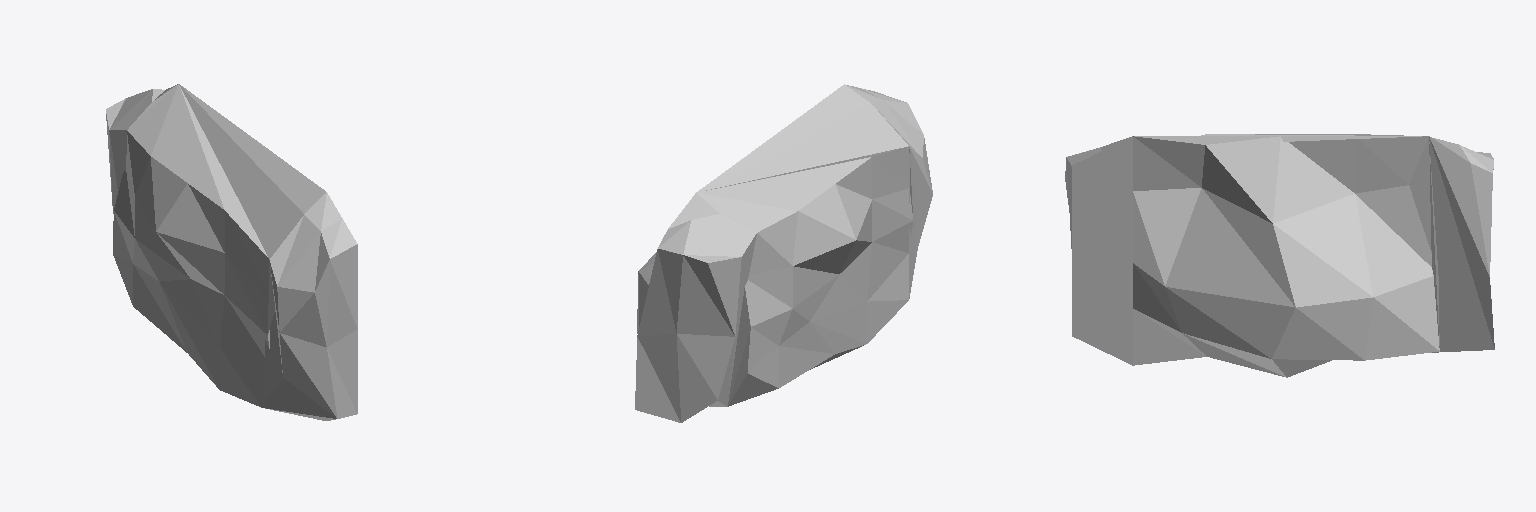
Rendered from RightWing.obj.
The picture shows the model from 3 angles: view 1: azimuth 30°, elevation 25°; view 2: azimuth 150°, elevation 25°; view 3: azimuth 270°, elevation 25°; orthographic projection.
Visible parts, largest first — view 1: Cube; view 2: Cube; view 3: Cube.
Part boxes in pixels (left/top/right/bottom): Cube: left=106, top=84, right=357, bottom=420; Cube: left=635, top=84, right=932, bottom=422; Cube: left=1065, top=134, right=1494, bottom=377.
Size of the model in its own units: 6.67 by 8.02 by 13.18.